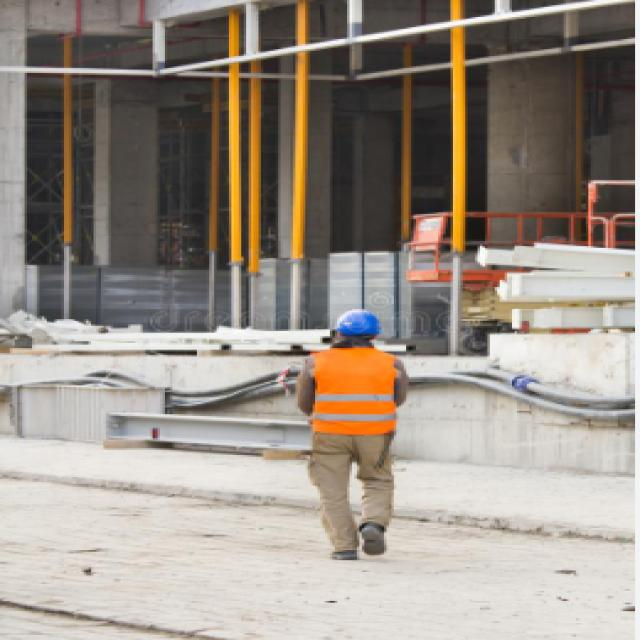hard_hat: (325, 309, 386, 345)
shoes: (322, 521, 394, 564)
vest: (305, 342, 406, 442)
